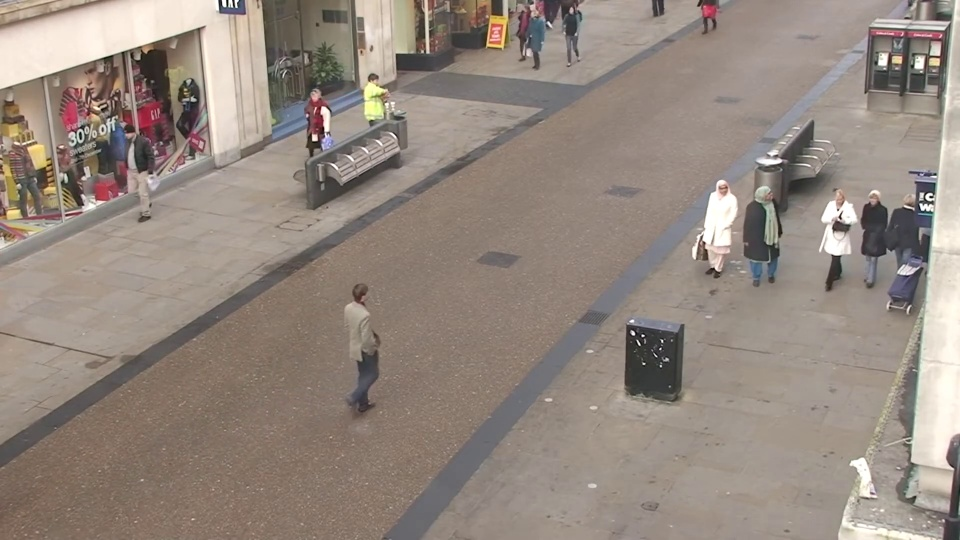pedestrian: (354, 270, 402, 406), (880, 184, 930, 301), (844, 189, 891, 305), (812, 186, 856, 302), (739, 181, 779, 295), (699, 175, 737, 287), (107, 126, 149, 221), (297, 89, 329, 176), (359, 69, 389, 151), (521, 8, 544, 73), (511, 0, 534, 64), (559, 3, 581, 68)
